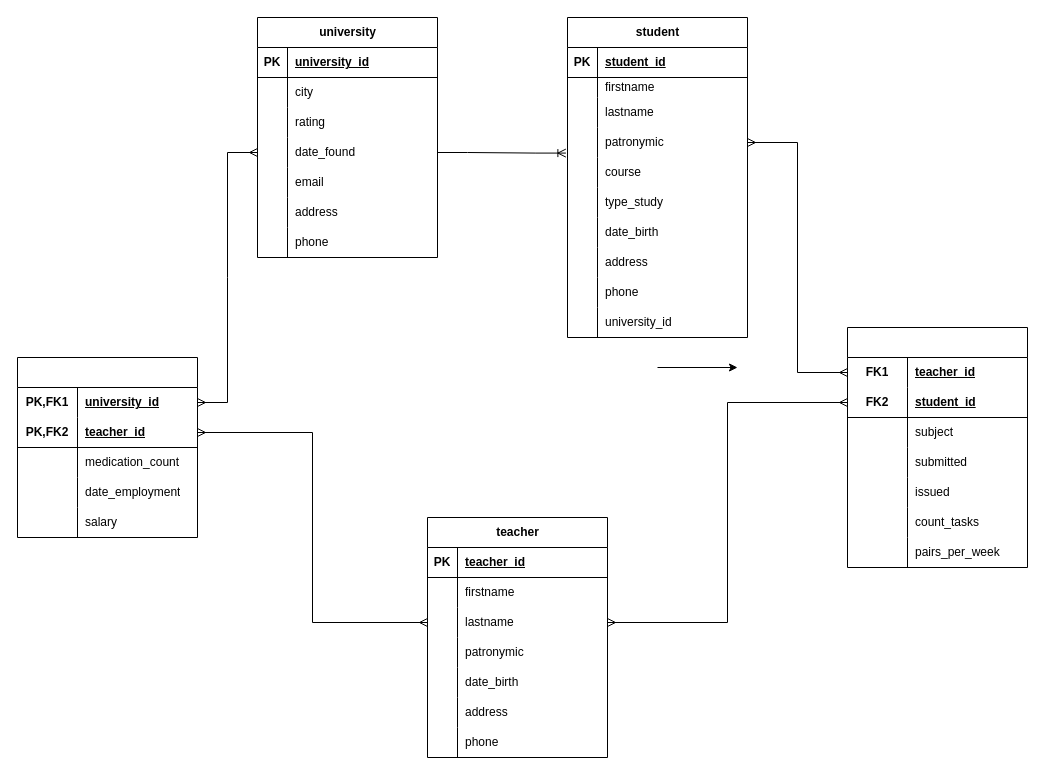
The diagram is 1045 pixels wide and 775 high, and some of its shapes have lost their labels. Here are the shapes that lost their labels. From the top down, the box of each, then its label:
(16, 356, 198, 538): university_teacher
(846, 326, 1028, 568): teacher_student
